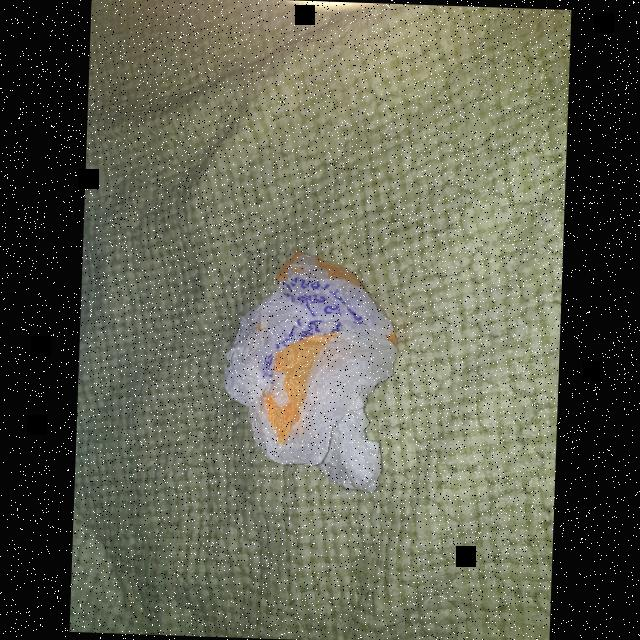plastic_bag: (216, 246, 410, 497)
